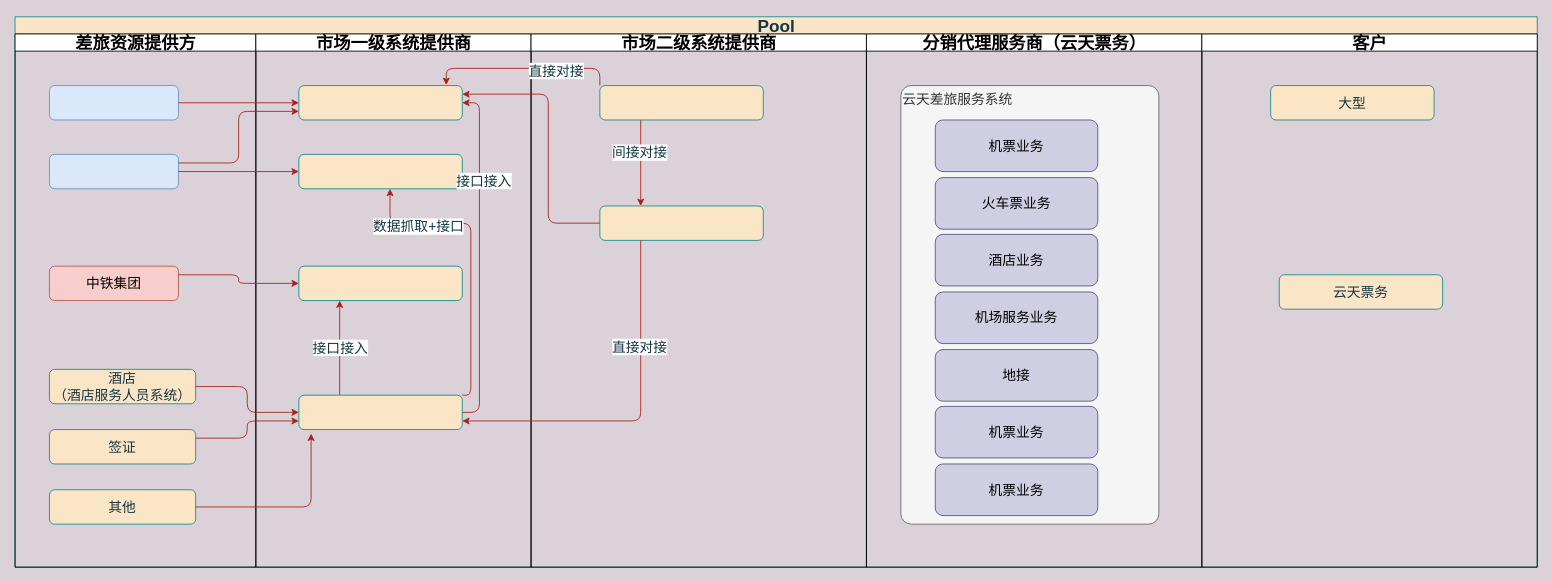
Image size: 1552x582. Some labels were removed from this diagram. The shapes that lost their labels are listed below. From the top down, each one's centre as x and y in pixels, then its label:
At point (113, 102): "航空公司".
At point (380, 102): "中航信 (eTerm黑屏+接口白屏）".
At point (681, 102): "业务系统提供商 （胜意，三和）".
At point (113, 171): "厦门航空".
At point (380, 171): "航空公司 (官网+App)".
At point (681, 222): "数据集成分发提供商".
At point (380, 283): "12306 （官网+App）".
At point (380, 412): "互联网提供商 （同城，携程）".
